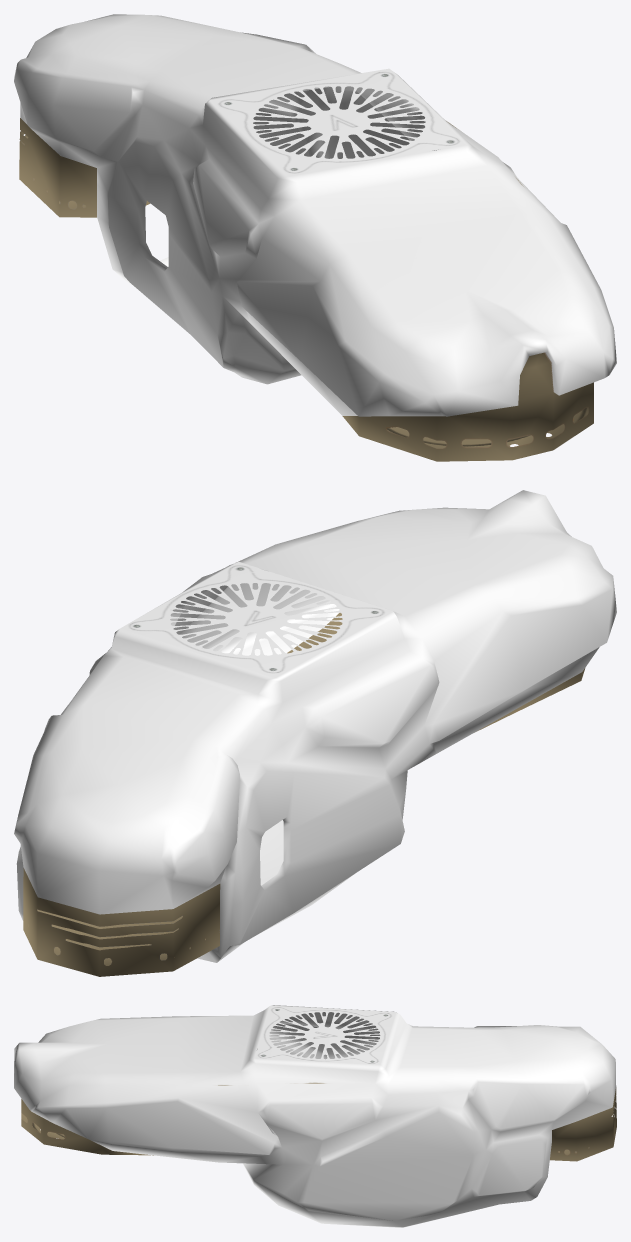
Rendered from lj3_left.obj.
The picture shows the model from 3 angles, top to bottom: view 1: azimuth 30°, elevation 25°; view 2: azimuth 150°, elevation 25°; view 3: azimuth 270°, elevation 25°; orthographic projection. The views are drawn at different scales.
Bounding box in the file's own units: 0.2161 × 0.1753 × 0.5753.
Materials: 1 (1 with a texture image).
